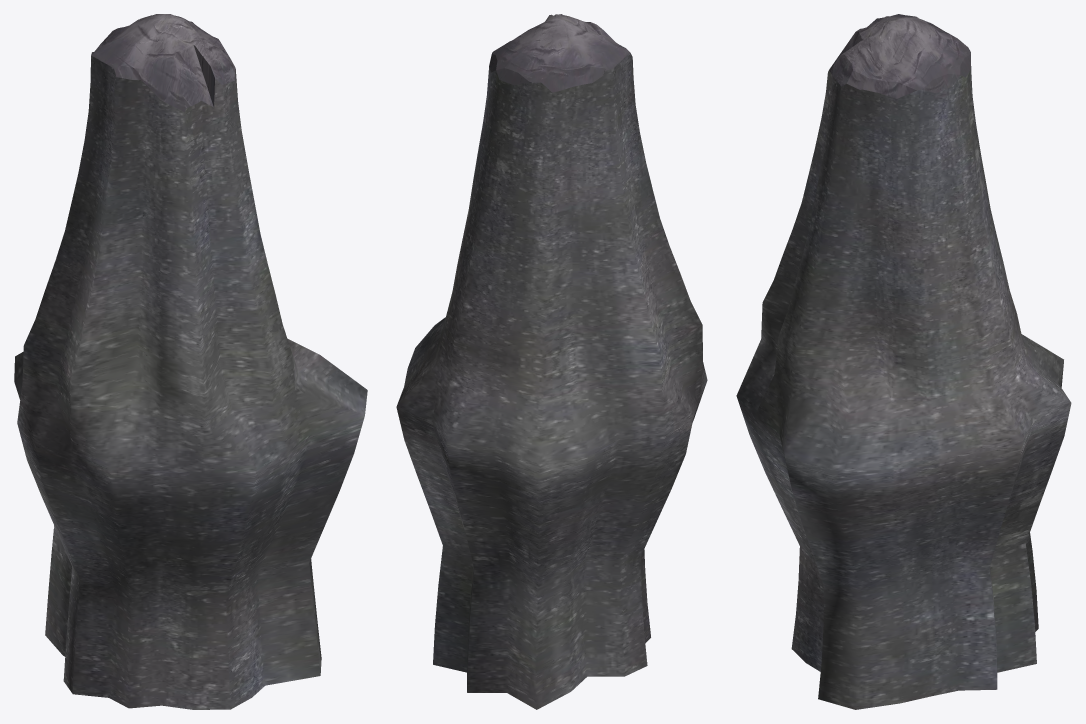
The picture shows the model from 3 angles, left to right: view 1: azimuth 30°, elevation 25°; view 2: azimuth 150°, elevation 25°; view 3: azimuth 270°, elevation 25°; orthographic projection. The views are drawn at different scales.
Visible parts, largest first — view 1: SM_FH_Ash_Tree_02_stump_LOD0; view 2: SM_FH_Ash_Tree_02_stump_LOD0; view 3: SM_FH_Ash_Tree_02_stump_LOD0.
Part boxes in pixels (x1,y1,x2,y2): SM_FH_Ash_Tree_02_stump_LOD0: (14, 14, 367, 709); SM_FH_Ash_Tree_02_stump_LOD0: (396, 14, 707, 709); SM_FH_Ash_Tree_02_stump_LOD0: (736, 14, 1071, 709).
Bounding box in the file's own units: 1.09 × 2.29 × 1.1.
1 material, 1 textured.
